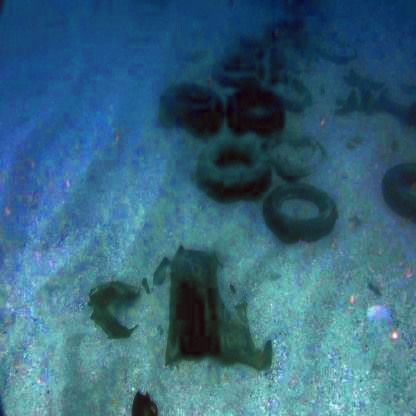tire: (260, 175, 340, 257), (141, 85, 226, 146), (196, 134, 271, 199), (230, 78, 289, 155), (382, 162, 416, 231)
